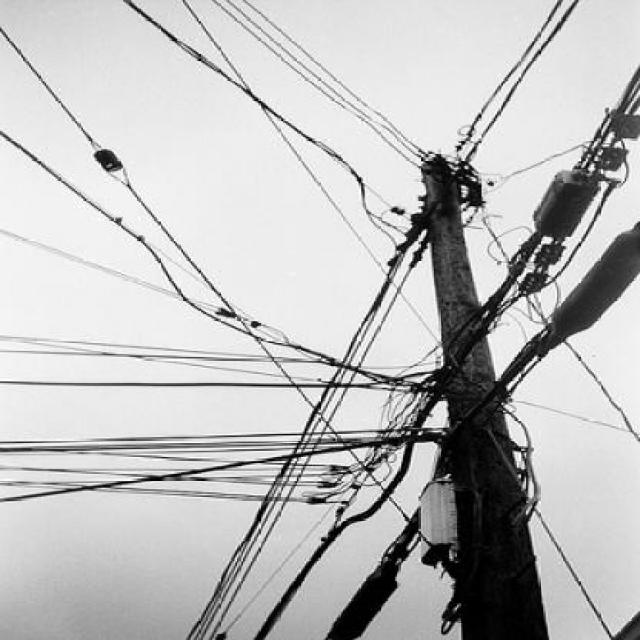pole: (346, 84, 640, 640)
